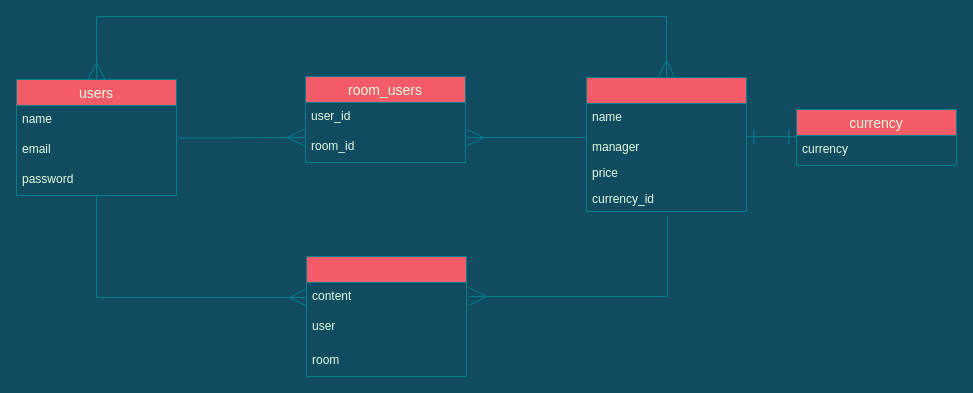
The diagram is 973 pixels wide and 393 high, and some of its shapes have lost their labels. Here are the shapes that lost their labels. From the top down, the box of each, then its label:
(586, 76, 746, 212): rooms
(306, 256, 466, 376): messages
